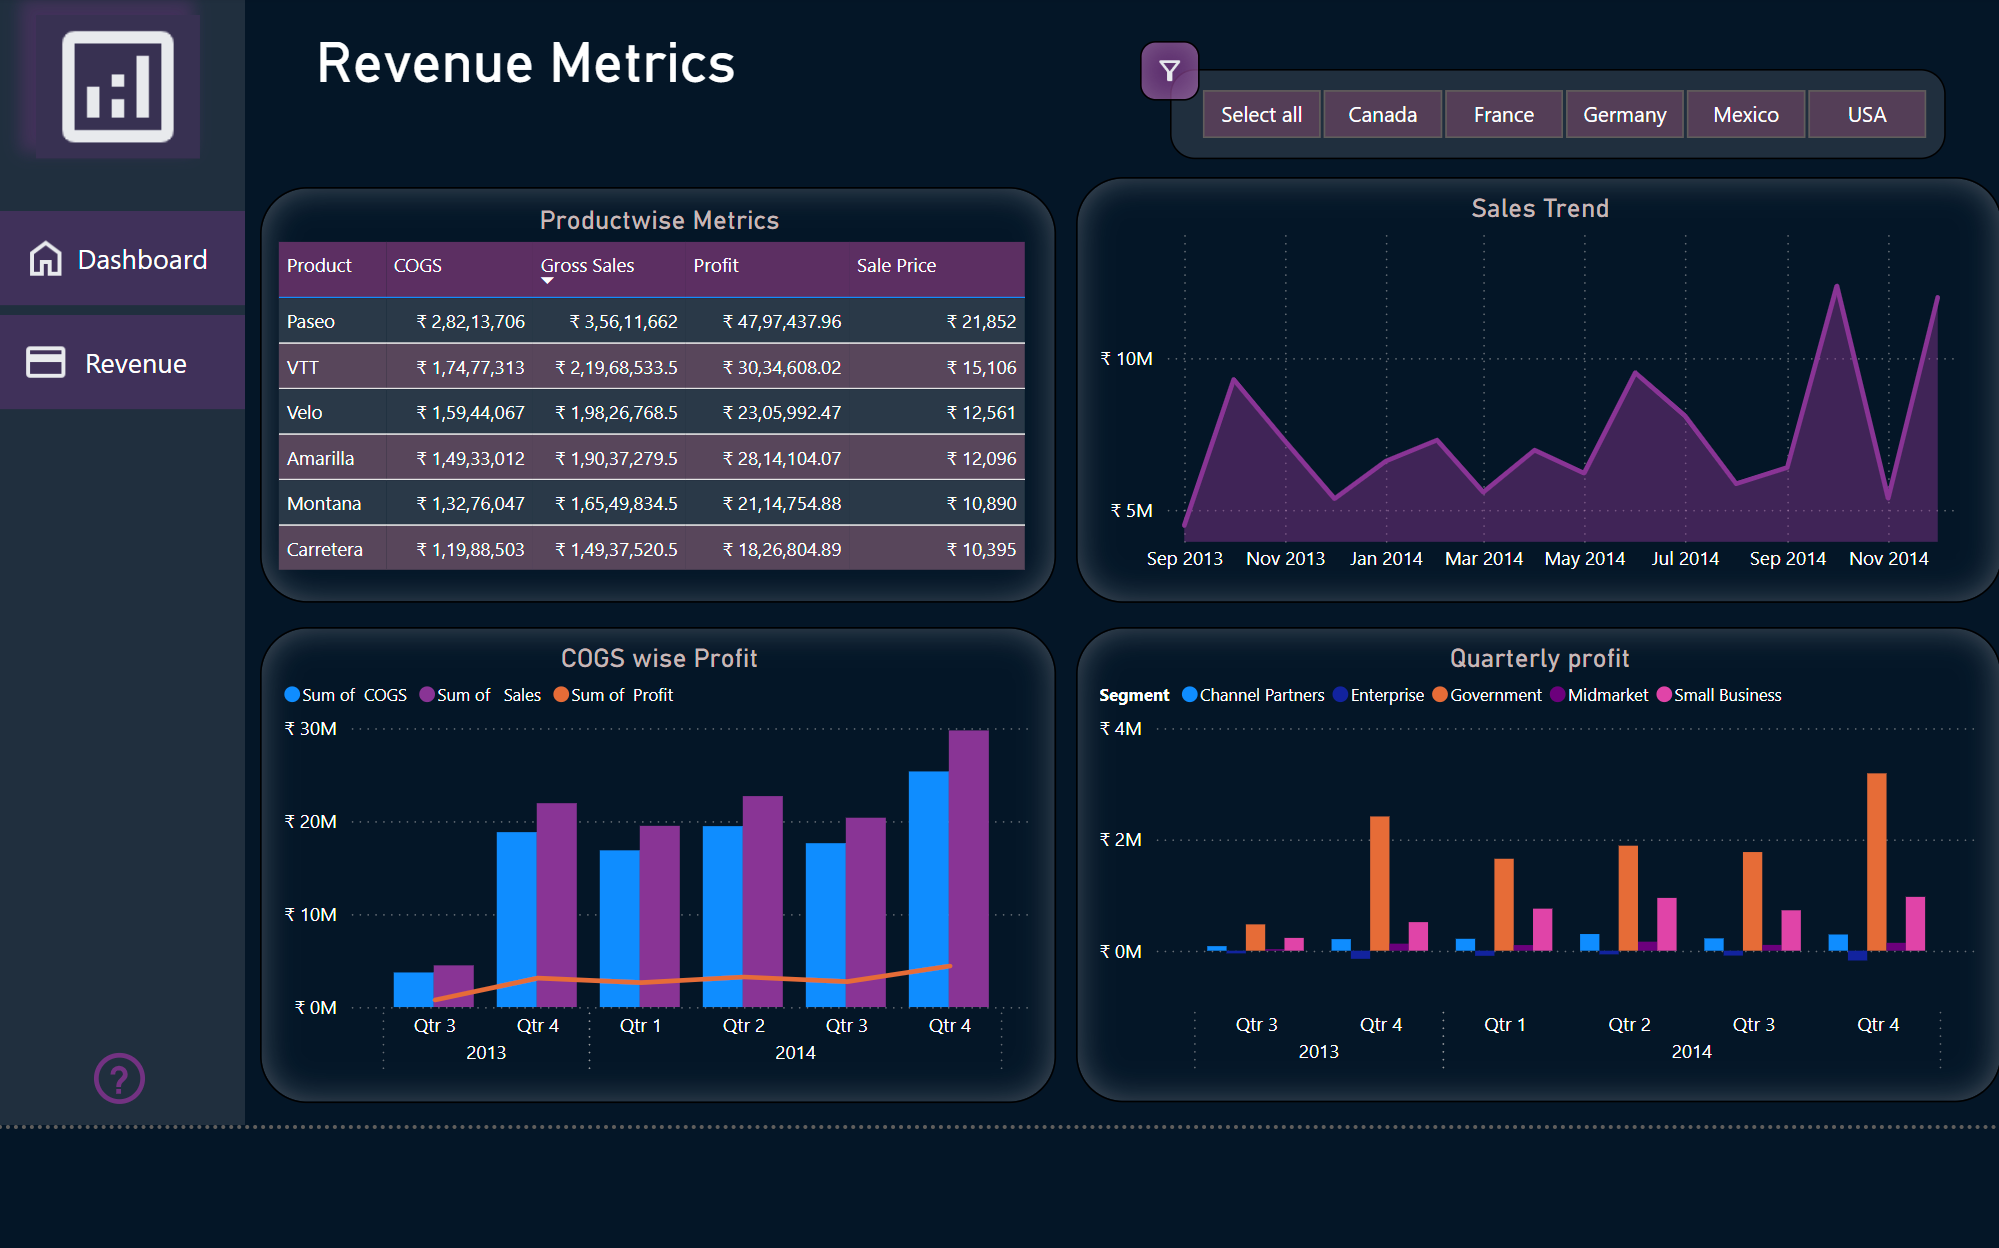

This screenshot's page, from the dashboard's own definition file:
{"tool":"powerbi","page":{"name":"Revenue","canvas":[1280,720],"ordinal":1},"visuals":[{"type":"shape","box":[0,0,160,721.2],"z":0,"group":"g1"},{"type":"shape","box":[749.6,47.2,494.7,57.4],"z":0},{"type":"group","id":"g1","title":"Group 1","box":[0,0,160,721.2],"z":1000},{"type":"actionButton","title":"Dashboard","box":[0,138,160,60],"z":2000,"group":"g1"},{"type":"actionButton","title":"Dashboard","box":[0,204,160,60],"z":2000},{"type":"actionButton","box":[0,658.8,160,62.5],"z":3000},{"type":"textbox","title":"Revenue Metrics","box":[160.6,21.7,357,73.9],"z":4000},{"type":"slicer","fields":{"Values":["Financials.Country"]},"box":[749.6,58.6,501,34.4],"z":5000},{"type":"areaChart","title":"Sales Trend","fields":{"Y":["Sum(Financials.  Sales )"],"Category":["Financials.Date.Variation.Date Hierarchy.Year","Financials.Date.Variation.Date Hierarchy.Quarter","Financials.Date.Variation.Date Hierarchy.Month","Financials.Date.Variation.Date Hierarchy.Day"]},"box":[689.8,116,590.3,271.6],"z":5000,"group":"g2"},{"type":"image","box":[730.5,29.3,38.2,38.2],"z":6000},{"type":"tableEx","title":"Productwise Metrics","fields":{"Values":["Financials. Product ","Sum(Financials. COGS )","Sum(Financials. Gross Sales )","Sum(Financials. Profit )","Sum(Financials. Sale Price )"]},"box":[169.6,122.4,507.4,265.2],"z":6000,"group":"g2"},{"type":"group","id":"g2","title":"Group 2","box":[169.6,116,1110.4,590.3],"z":7000},{"type":"clusteredColumnChart","title":"Quarterly profit","fields":{"Y":["Sum(Financials. Profit )"],"Series":["Financials.Segment"],"Category":["Financials.Date.Variation.Date Hierarchy.Year","Financials.Date.Variation.Date Hierarchy.Quarter"]},"box":[690.1,403.2,589.8,303],"z":7000,"group":"g2"},{"type":"lineClusteredColumnComboChart","title":"COGS wise Profit","fields":{"Category":["Financials.Date.Variation.Date Hierarchy.Year","Financials.Date.Variation.Date Hierarchy.Quarter"],"Y2":["Sum(Financials. Profit )"],"Y":["Sum(Financials. COGS )","Sum(Financials.  Sales )"]},"box":[169.6,402.9,507.4,303.4],"z":8000,"group":"g2"},{"type":"image","box":[27.1,12.9,104.3,91.4],"z":16001,"group":"g1"}]}

Visuals, with their boxes on the page's 1280x720 design canvas (x1, y1, x2, y2). These are canvas units, not pixel positions in the 1999x1248 screenshot, which may show the page scaled, cropped or inside an application window:
shape: 0:0:160:721
shape: 750:47:1244:105
"Group 1" group: 0:0:160:721
"Dashboard" actionButton: 0:138:160:198
"Dashboard" actionButton: 0:204:160:264
actionButton: 0:659:160:721
"Revenue Metrics" textbox: 161:22:518:96
slicer - Financials.Country: 750:59:1251:93
"Sales Trend" areaChart: 690:116:1280:388
image: 730:29:769:68
"Productwise Metrics" tableEx: 170:122:677:388
"Group 2" group: 170:116:1280:706
"Quarterly profit" clusteredColumnChart: 690:403:1280:706
"COGS wise Profit" lineClusteredColumnComboChart: 170:403:677:706
image: 27:13:131:104
